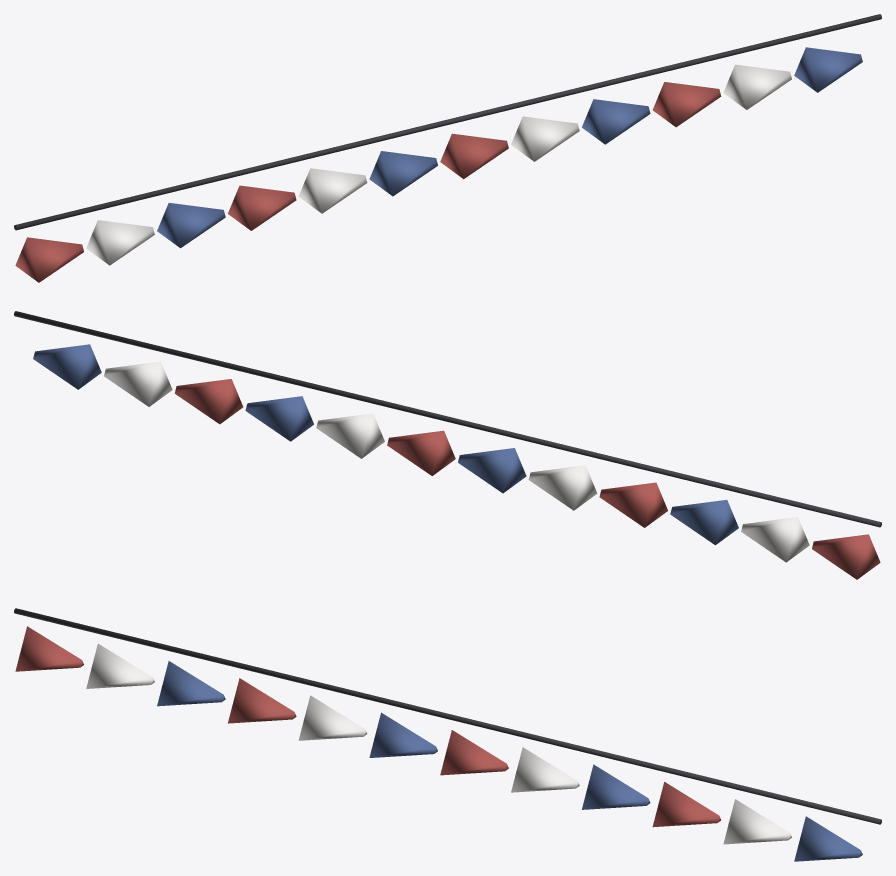
Rendered from prop_garland_c.glb.
3 renders of one model, top to bottom at view 1: azimuth 30°, elevation 25°; view 2: azimuth 150°, elevation 25°; view 3: azimuth 330°, elevation 25°, orthographic.
Visible parts, largest first — view 1: garland_c; view 2: garland_c; view 3: garland_c.
Boxes of the visible parts, left/top/right/bottom form: garland_c: left=14, top=14, right=881, bottom=282; garland_c: left=14, top=311, right=881, bottom=579; garland_c: left=14, top=608, right=881, bottom=861.
Size of the model in its own units: 4.4 by 0.252 by 0.2078.
